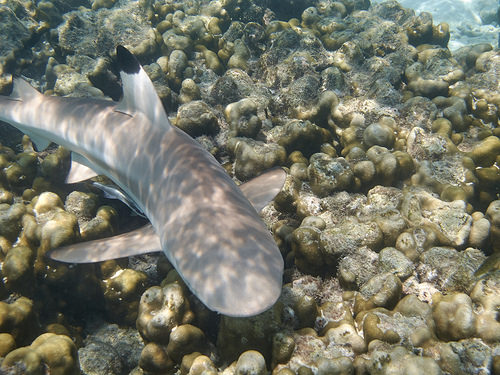shark: (5, 43, 330, 320)
